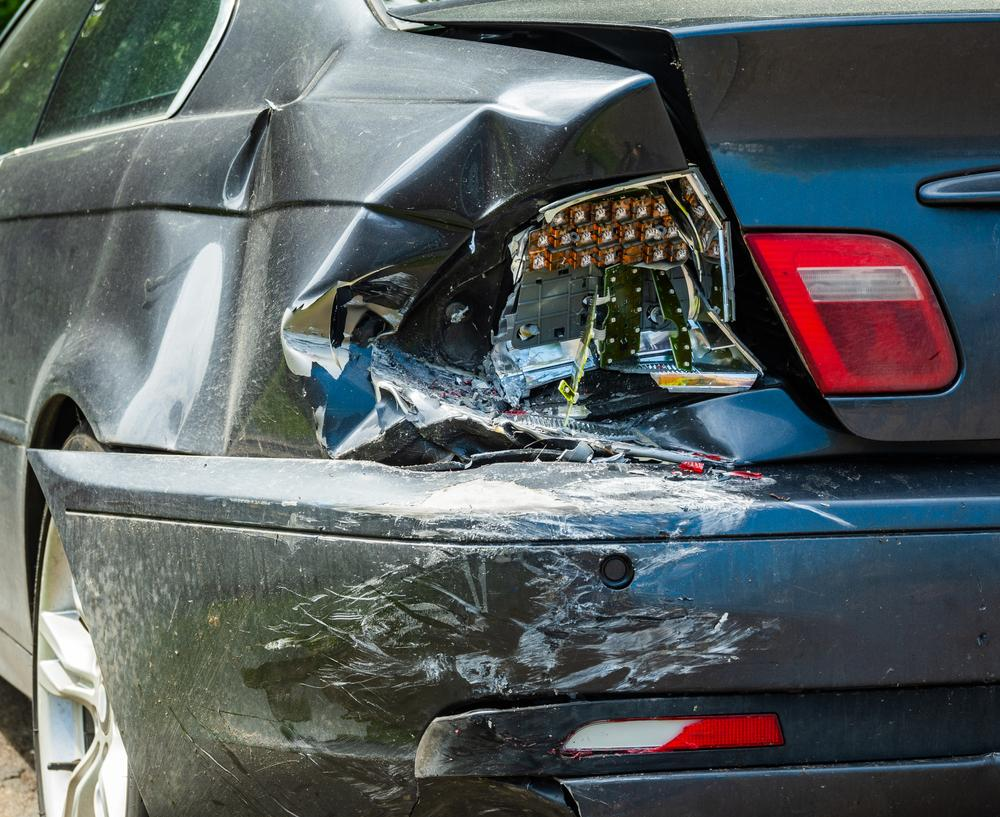crack: (503, 775, 588, 817)
dent: (278, 72, 745, 467), (143, 44, 342, 443)
lamp broken: (490, 163, 766, 418)
scratch: (260, 458, 790, 704)
